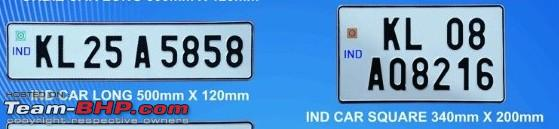number_plate: (336, 3, 510, 105), (5, 21, 256, 81)
